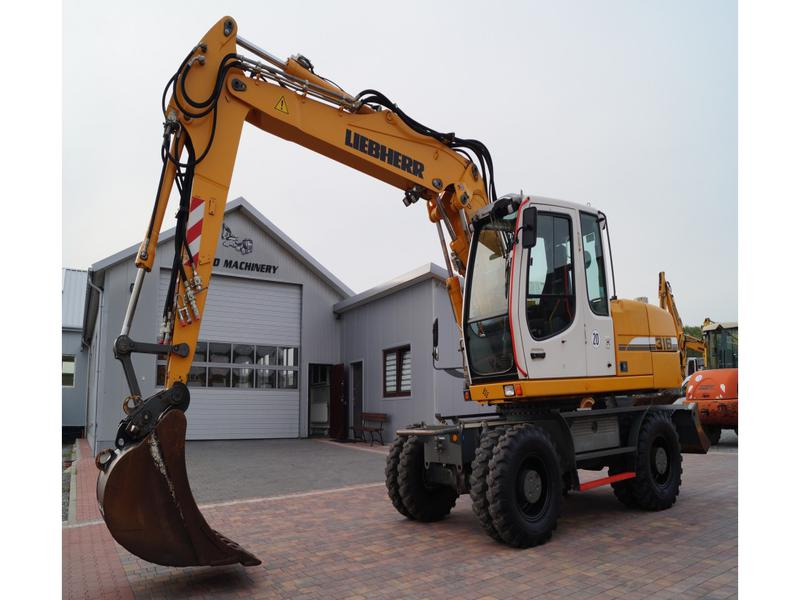shovel: (88, 11, 710, 577)
